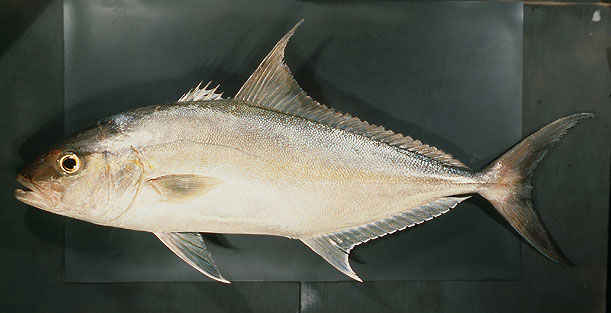fish: (13, 18, 595, 285)
